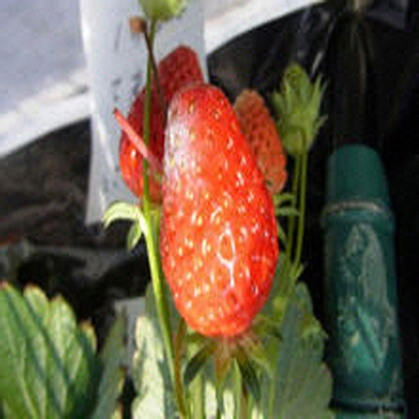Powdery_Fruit: (195, 211, 257, 335)
